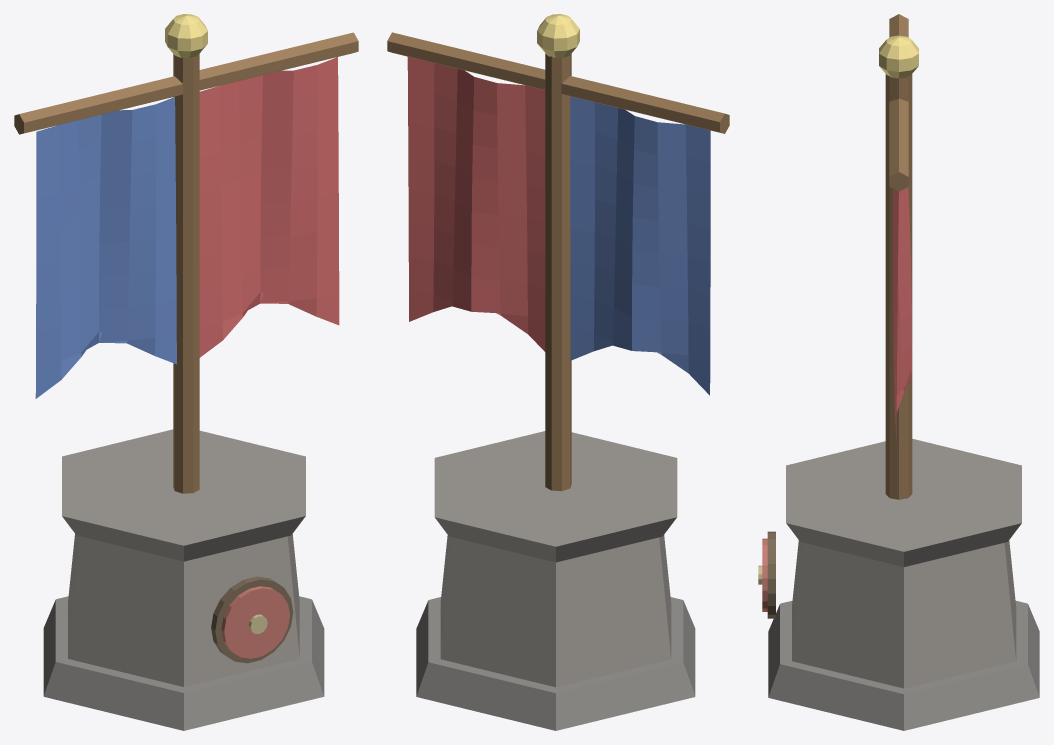
The model's file is Clan_Hub.glb.
3 renders of one model, left to right at view 1: azimuth 30°, elevation 25°; view 2: azimuth 150°, elevation 25°; view 3: azimuth 270°, elevation 25°, orthographic. The views are drawn at different scales.
Visible parts, largest first — view 1: Clan_Hub; view 2: Clan_Hub; view 3: Clan_Hub.
Boxes of the visible parts, box(x1,y1,x2,y2) form: Clan_Hub: box(14, 14, 358, 730); Clan_Hub: box(387, 14, 729, 730); Clan_Hub: box(758, 14, 1039, 730).
Size of the model in its own units: 1.7 by 3.15 by 1.28.
